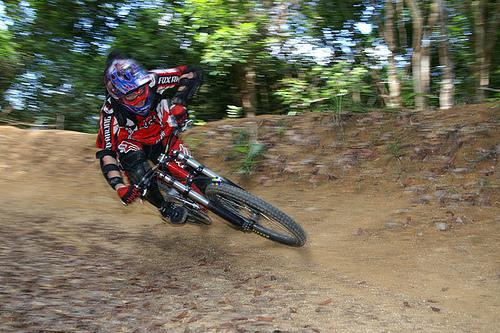car: (123, 112, 310, 250)
person: (98, 58, 202, 225)
